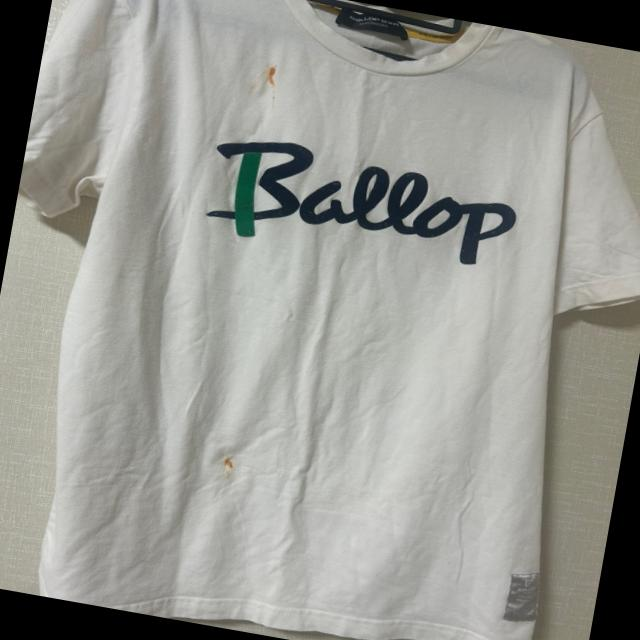stain: (258, 58, 294, 97), (212, 448, 250, 478)
